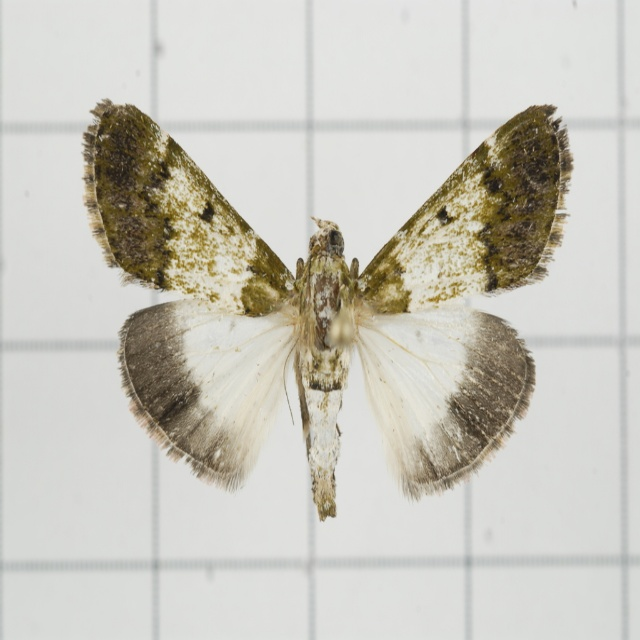Butterfly: (100, 115, 547, 546)
